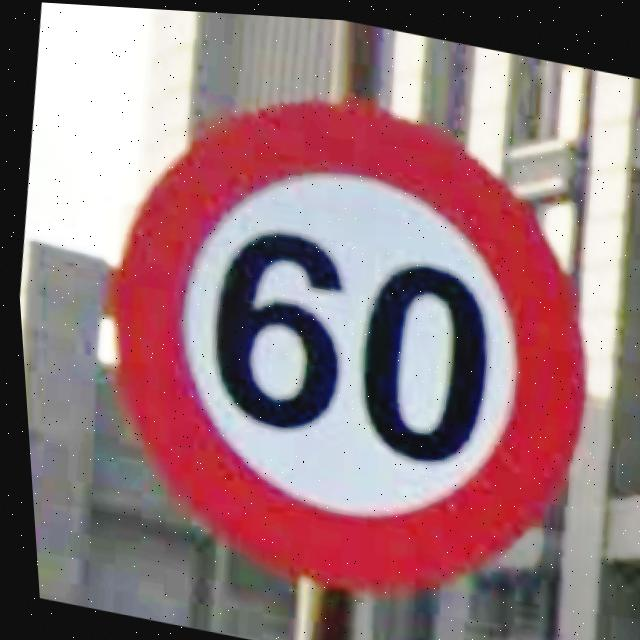max60: (55, 45, 632, 629)
